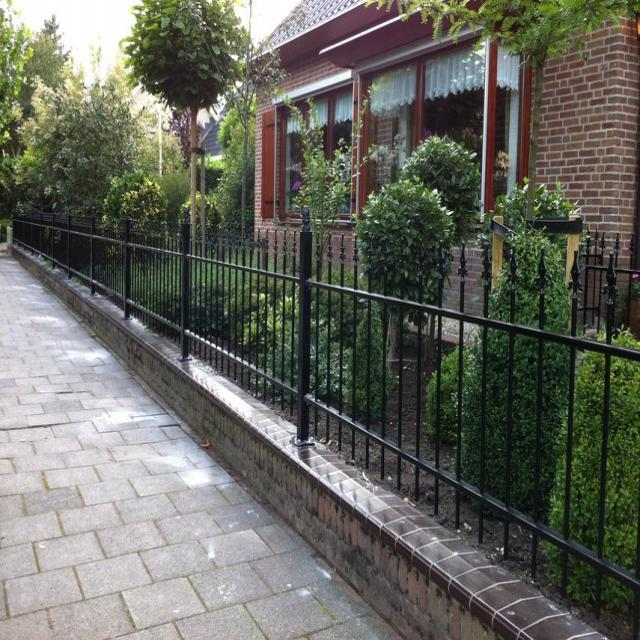fence line: (417, 266, 640, 640), (207, 247, 478, 511), (26, 207, 197, 360)
